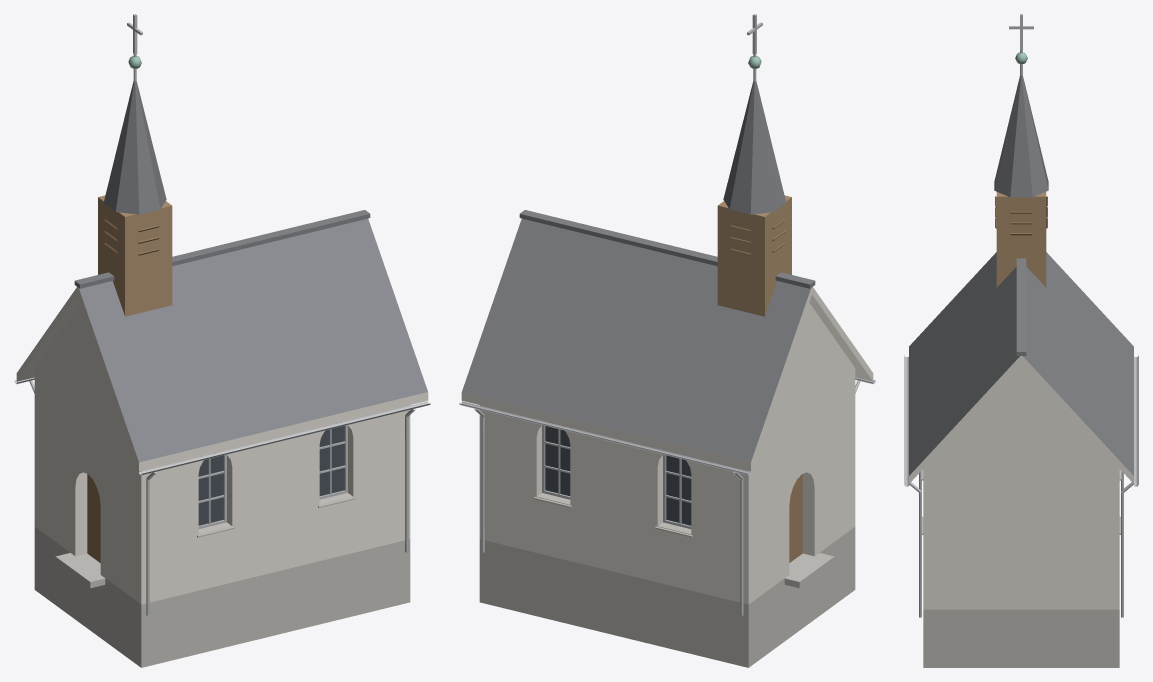
The model's file is chapel_s.glb.
The picture shows the model from 3 angles, left to right: view 1: azimuth 30°, elevation 25°; view 2: azimuth 150°, elevation 25°; view 3: azimuth 270°, elevation 25°; orthographic projection. The views are drawn at different scales.
Parts seen in each view (by area): view 1: chapel_s; view 2: chapel_s; view 3: chapel_s.
Boxes of the visible parts, x1=… form: chapel_s: x1=14, y1=14, x2=430, y2=667; chapel_s: x1=459, y1=14, x2=875, y2=667; chapel_s: x1=904, y1=14, x2=1138, y2=667.
Size of the model in its own units: 8.77 by 17.13 by 6.56.
